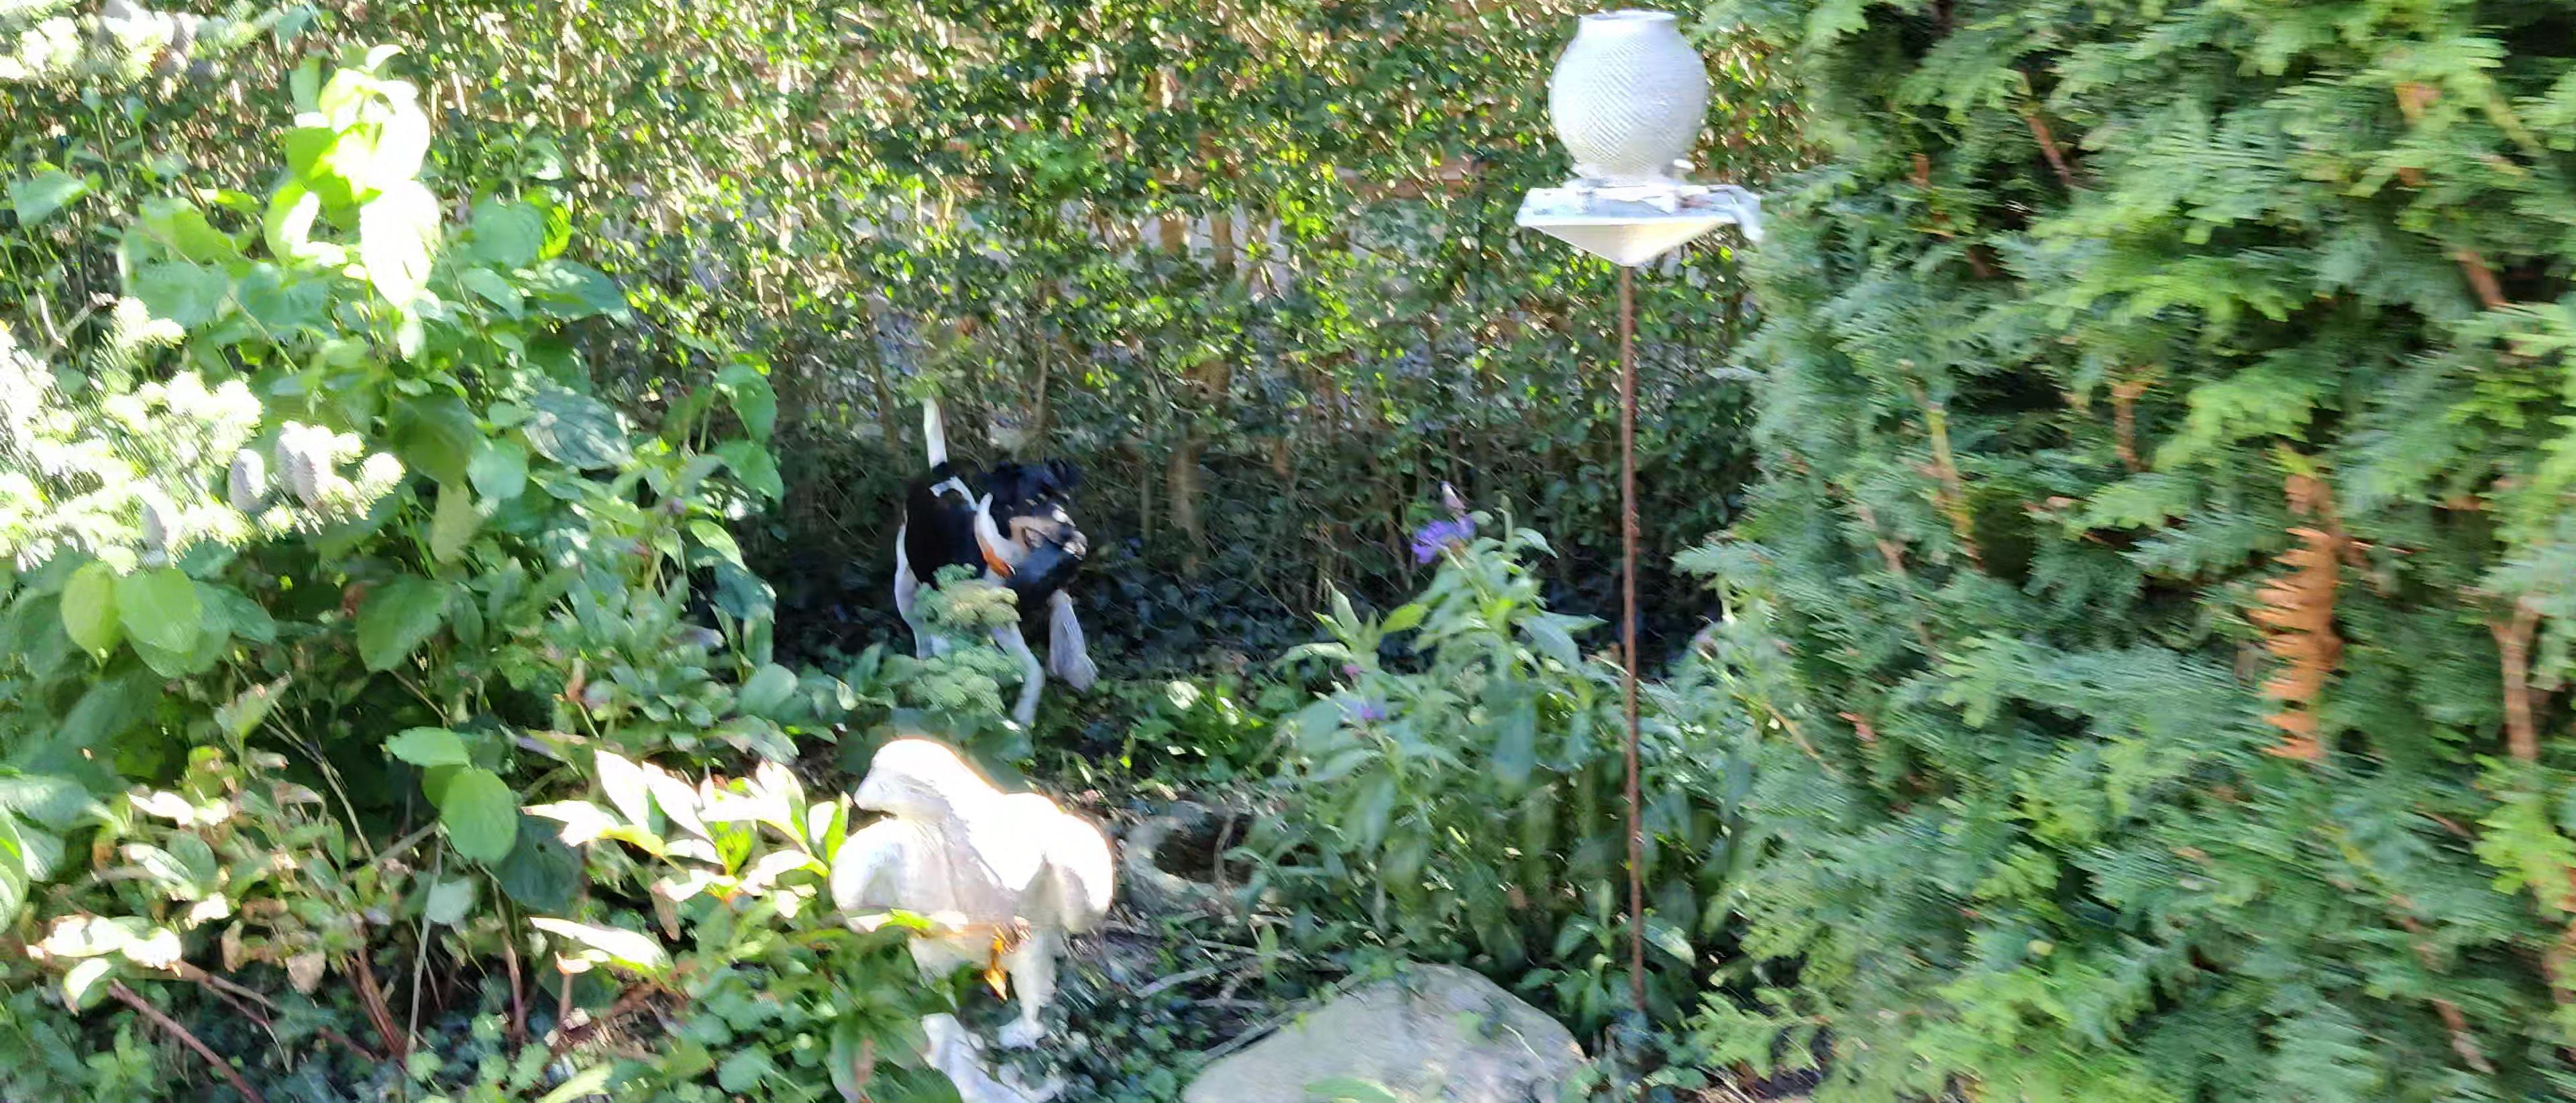Dog: (853, 380, 1089, 761)
